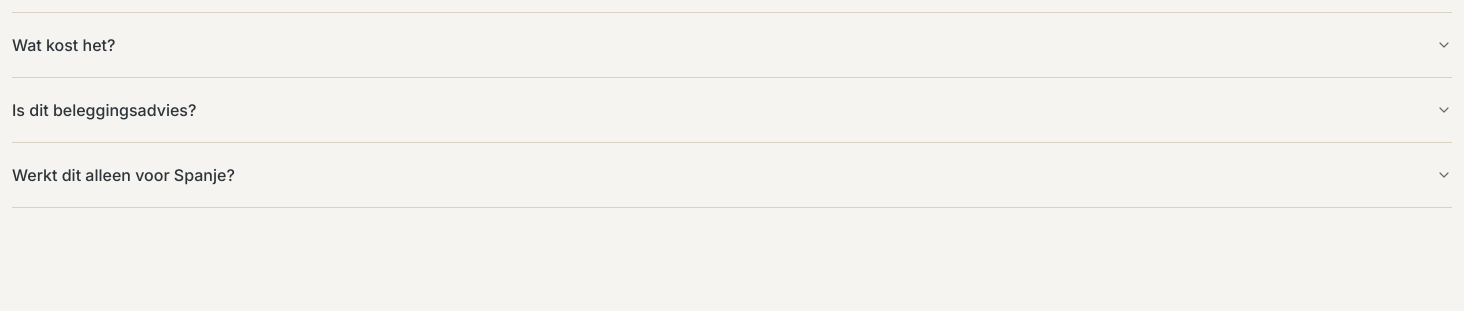
Test: opening and closing › allows several open at once - an FAQ is a reference, not a walkthrough
Click the button "Wat kost het?".
click(64, 45)  # box 12,13 -> 1452,77
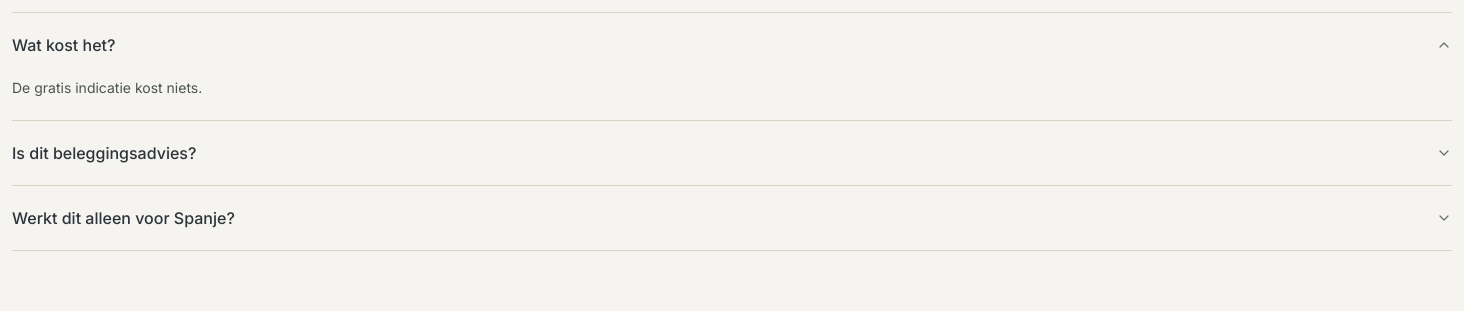
Click the button "Is dit beleggingsadvies?".
click(104, 153)  # box 12,121 -> 1452,185
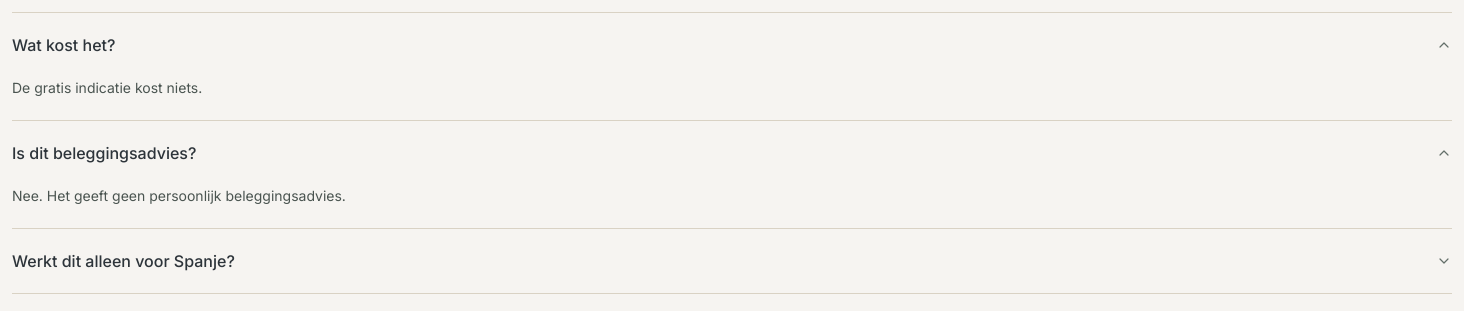
Now the button "Wat kost het?" is expanded, box 12,13 -> 1452,77
Now the button "Is dit beleggingsadvies?" is expanded, box 12,121 -> 1452,185
